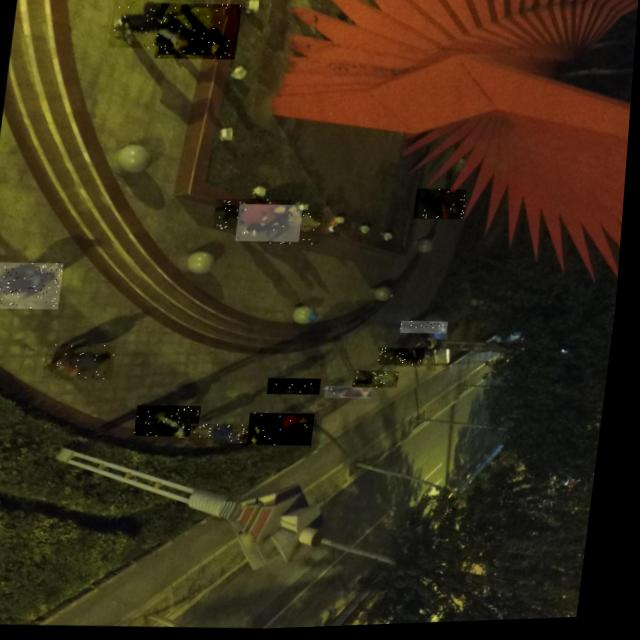Person: (154, 2, 241, 64), (108, 0, 204, 53), (0, 260, 67, 312), (47, 343, 121, 384), (238, 204, 306, 246), (215, 198, 293, 234), (252, 413, 321, 450), (139, 405, 207, 441), (263, 212, 326, 249), (416, 190, 470, 225), (194, 424, 257, 450), (272, 378, 327, 399), (383, 349, 430, 370), (357, 372, 404, 392), (327, 387, 377, 403), (403, 323, 452, 338)
